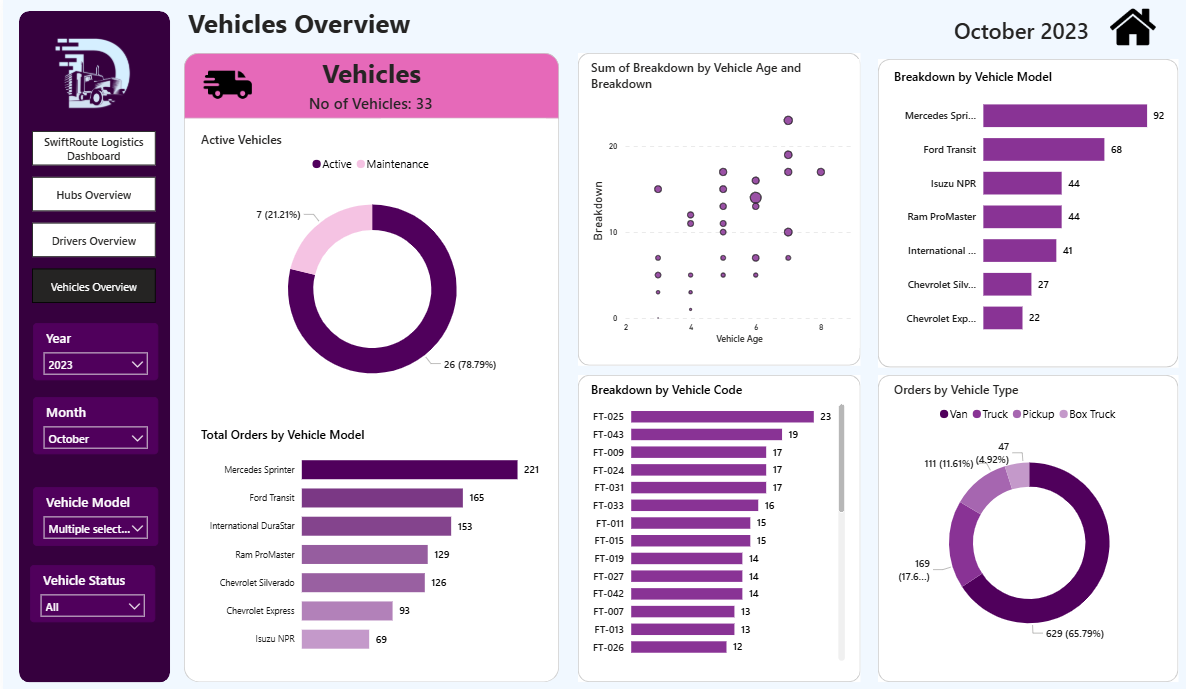

The page's visual inventory and layout, read from the dashboard file:
{"tool":"powerbi","page":{"name":"Vehicles Overview","canvas":[1450,850],"ordinal":3},"visuals":[{"type":"shape","box":[19,13.3,184.6,820.1],"z":0},{"type":"textbox","box":[221.1,0,541.1,72.1],"z":1000},{"type":"slicer","fields":{"Values":["Vehicles.Vehicle Status"]},"box":[33.3,690,153.3,70],"z":2000},{"type":"slicer","fields":{"Values":["Date Table.Month"]},"box":[36.7,485,153.3,70],"z":3000},{"type":"image","box":[54.9,36.1,111.3,112.9],"z":4000},{"type":"cardVisual","fields":{"Data":["Orders.Year Month Title"]},"box":[1124.4,9.4,238.4,51.8],"z":5000},{"type":"shape","box":[701.7,65,345,381.7],"z":6000},{"type":"image","box":[1351.8,4.7,56.5,56.5],"z":7000},{"type":"slicer","fields":{"Values":["Vehicles.Vehicle Model"]},"box":[36.7,595,153.3,71.7],"z":8000},{"type":"slicer","fields":{"Values":["Date Table.Year"]},"box":[36.7,395,153.3,70],"z":9000},{"type":"shape","box":[221.1,64.3,457.9,768.5],"z":10000},{"type":"shape","box":[221.1,64.3,457.9,80],"z":11000},{"type":"textbox","box":[330.9,61.2,238.4,72.1],"z":12000},{"type":"cardVisual","fields":{"Data":["Vehicles.No of Vehicles"]},"box":[348.2,105.1,202.3,39.2],"z":13000},{"type":"donutChart","title":"Active Vehicles","fields":{"Category":["Vehicles.Vehicle Status"],"Y":["CountNonNull(Vehicles.Vehicle ID)"]},"box":[236.8,160,428.1,337.2],"z":14000},{"type":"barChart","fields":{"Category":["Vehicles.Vehicle Model"],"Y":["Orders.Total Orders"]},"box":[236.8,520.7,428.1,291.7],"z":15000},{"type":"shape","box":[1068.3,71.7,366.7,376.7],"z":16000},{"type":"scatterChart","fields":{"X":["Vehicles.Vehicle Age"],"Y":["Vehicles.Breakdown"],"Size":["Sum(Vehicles.Breakdown)1"]},"box":[713.3,71.7,333.3,353.3],"z":17000},{"type":"shape","box":[701.7,458.3,345,375],"z":18000},{"type":"shape","box":[1068.3,458.3,366.7,375],"z":19000},{"type":"barChart","title":"Breakdown by Vehicle Code","fields":{"Category":["Vehicles.Vehicle Code"],"Y":["Sum(Vehicles.Breakdown)"]},"box":[713.3,465,320,346.7],"z":20000},{"type":"barChart","title":"Breakdown by Vehicle Model","fields":{"Y":["Sum(Vehicles.Breakdown)"],"Category":["Vehicles.Vehicle Model"]},"box":[1083.3,83.3,340,341.7],"z":21000},{"type":"donutChart","title":"Orders by Vehicle Type","fields":{"Category":["Orders.Vehicle Type"],"Y":["Orders.Total Orders"]},"box":[1083.3,465,340,346.7],"z":22000},{"type":"pageNavigator","box":[35,160,151.7,211.7],"z":23000},{"type":"image","box":[236.7,75,75,58.3],"z":24000}]}

Visuals, with their boxes in screenshot pixels (x1, y1, x2, y2), scaled from the page's 1450x850 canvas onto the 1186x689 screenshot:
shape: detection(16, 11, 167, 676)
textbox: detection(181, 0, 623, 58)
slicer - Vehicles.Vehicle Status: detection(27, 559, 153, 616)
slicer - Date Table.Month: detection(30, 393, 155, 450)
image: detection(45, 29, 136, 121)
cardVisual - Orders.Year Month Title: detection(920, 8, 1115, 50)
shape: detection(574, 53, 856, 362)
image: detection(1106, 4, 1152, 50)
slicer - Vehicles.Vehicle Model: detection(30, 482, 155, 540)
slicer - Date Table.Year: detection(30, 320, 155, 377)
shape: detection(181, 52, 555, 675)
shape: detection(181, 52, 555, 117)
textbox: detection(271, 50, 466, 108)
cardVisual - Vehicles.No of Vehicles: detection(285, 85, 450, 117)
"Active Vehicles" donutChart: detection(194, 130, 544, 403)
barChart - Vehicles.Vehicle Model x Orders.Total Orders: detection(194, 422, 544, 659)
shape: detection(874, 58, 1174, 363)
scatterChart - Vehicles.Vehicle Age x Vehicles.Breakdown: detection(583, 58, 856, 344)
shape: detection(574, 371, 856, 675)
shape: detection(874, 371, 1174, 675)
"Breakdown by Vehicle Code" barChart: detection(583, 377, 845, 658)
"Breakdown by Vehicle Model" barChart: detection(886, 68, 1164, 344)
"Orders by Vehicle Type" donutChart: detection(886, 377, 1164, 658)
pageNavigator: detection(29, 130, 153, 301)
image: detection(194, 61, 255, 108)
